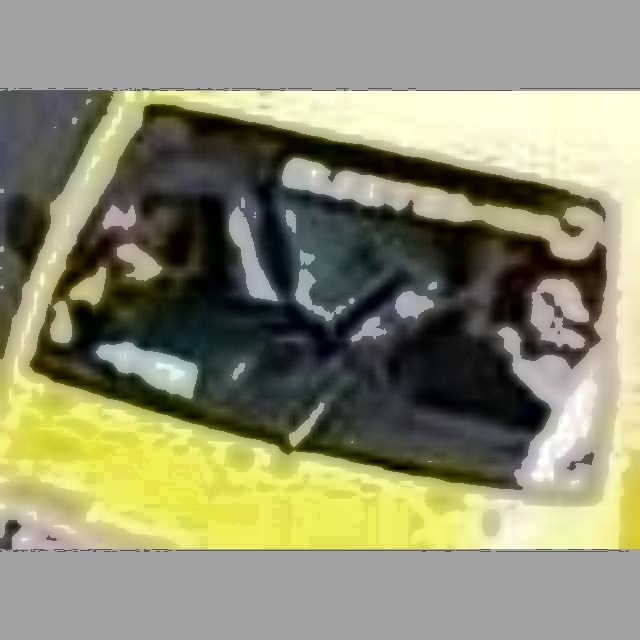pakai: (175, 169, 414, 401)
